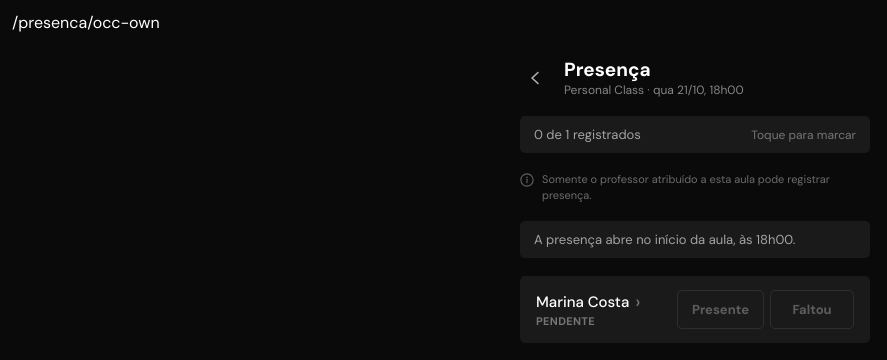
Test: Professor: Agenda → alunos da aula → ficha de treino › Lista de alunos (Presença) › o nome do aluno abre a ficha dele quando a pessoa pode ver fichas
Click the link with aria-label "Ficha de treino de Marina Costa": (588, 302) [536, 292, 640, 312]
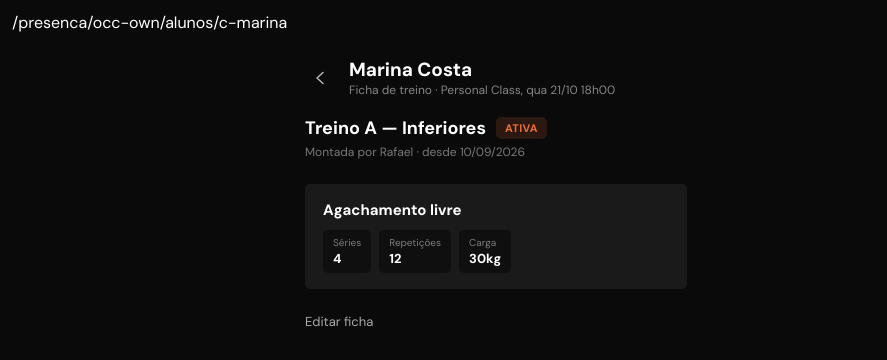
Result: the text named "rota" reads "/presenca/occ-own/alunos/c-marina" at [12, 12, 287, 33]
Result: the heading "Agachamento livre" is shown at [323, 200, 462, 220]
